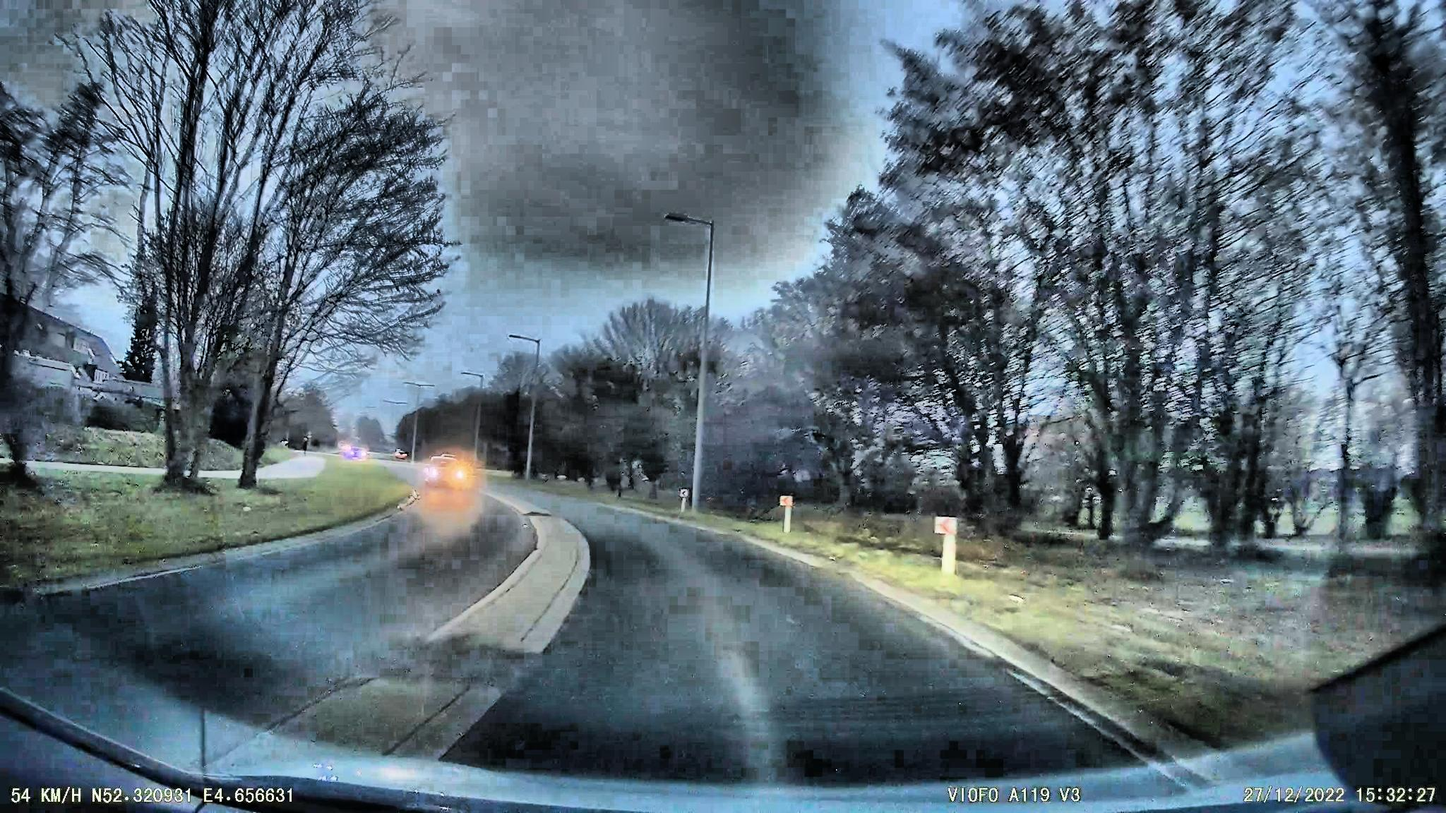Roads: (0, 485, 1347, 813)
